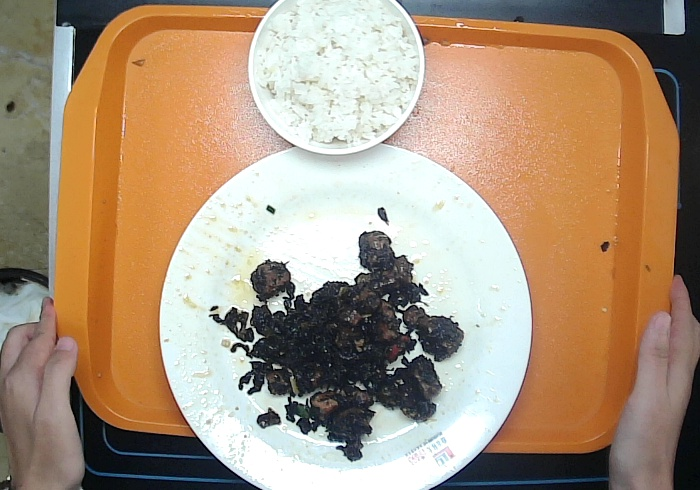ZNLD-Da_Yuan_Pan: (157, 140, 535, 490)
ZNLD-Fan_Wan: (245, 1, 428, 158)
